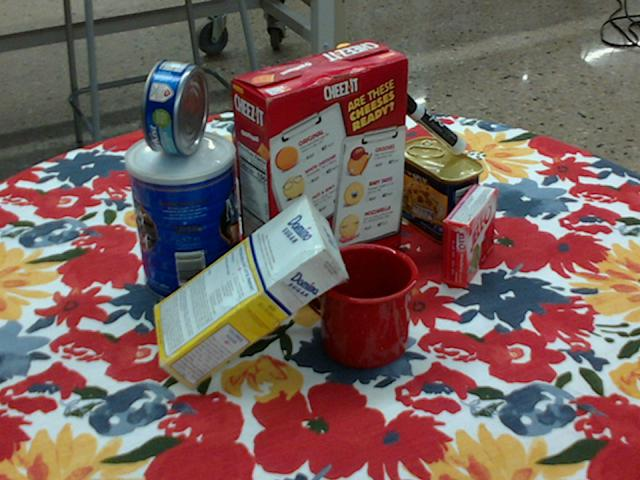cracker_box: (229, 41, 409, 299)
gelatin_box: (441, 183, 497, 288)
large_marker: (391, 89, 465, 153)
master_chef_can: (126, 130, 240, 305)
mug: (302, 241, 418, 368)
mustard_bottle: (315, 44, 382, 222)
potted_meat_can: (395, 136, 483, 244)
sugar_box: (153, 196, 347, 393)
tomato_soup_can: (231, 117, 295, 224)
tuna_fish_can: (141, 59, 206, 155)
